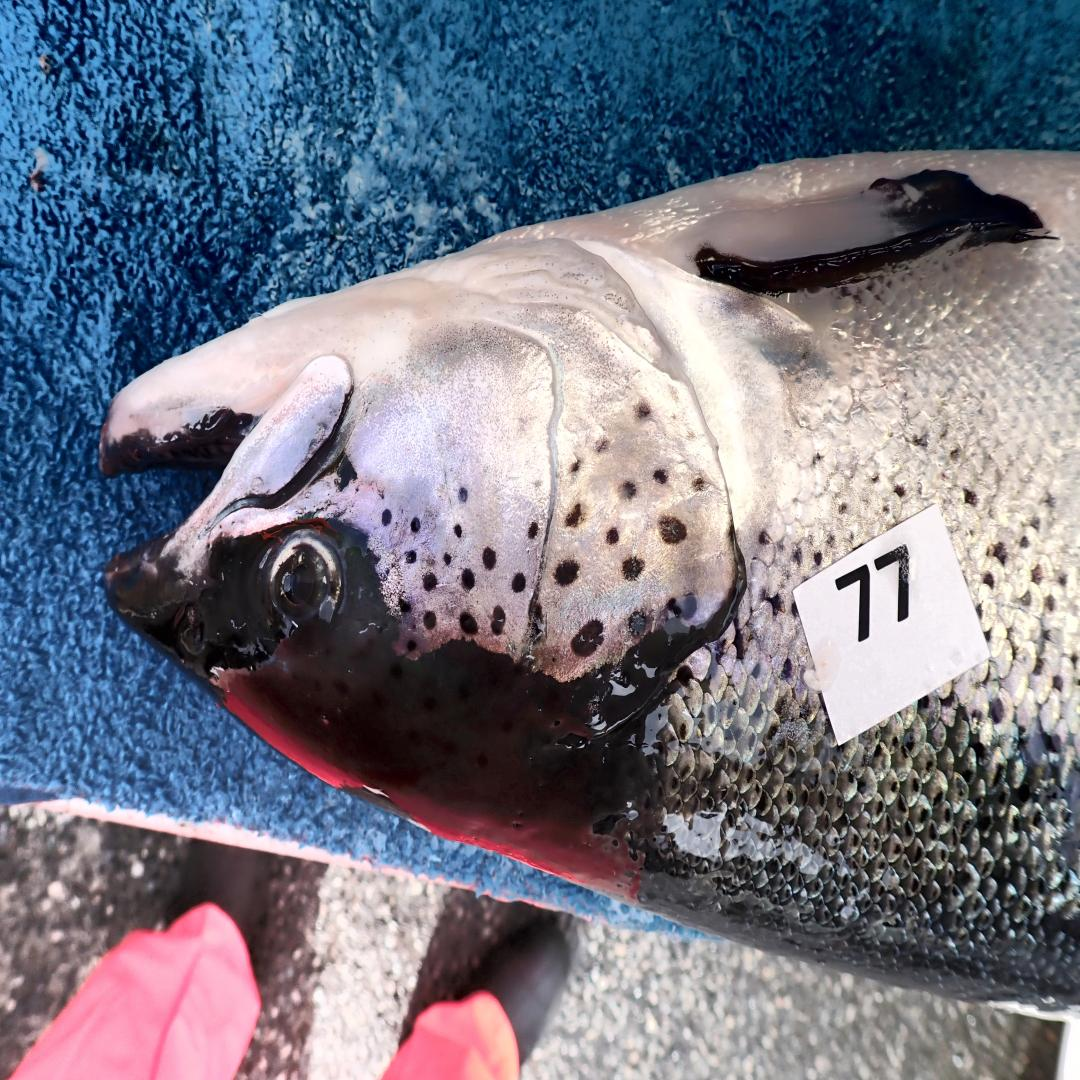spot: (572, 619, 603, 656), (658, 517, 688, 546), (666, 593, 698, 620), (336, 456, 358, 492), (554, 559, 580, 587), (533, 604, 547, 644), (565, 502, 587, 527), (622, 556, 643, 582), (628, 611, 646, 637), (460, 613, 479, 636), (491, 608, 506, 636), (482, 546, 496, 571), (617, 481, 634, 501), (634, 400, 650, 421), (512, 572, 526, 593), (462, 568, 475, 590), (423, 610, 437, 630), (422, 574, 437, 591), (652, 470, 668, 485), (606, 527, 619, 544), (596, 438, 609, 455), (527, 521, 538, 540), (381, 509, 392, 526), (410, 517, 420, 534), (692, 478, 704, 492), (399, 600, 411, 613), (406, 550, 417, 564), (458, 488, 467, 503), (571, 459, 580, 474), (453, 524, 462, 538), (406, 640, 416, 652), (443, 553, 451, 566)
